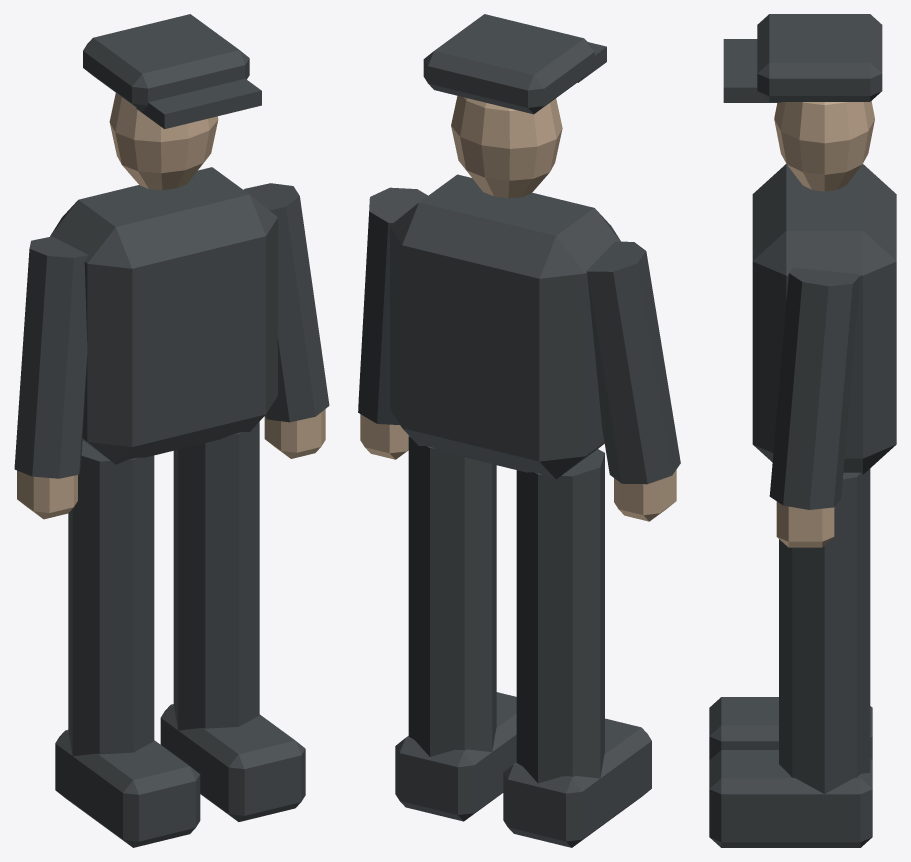
File: security_guard.glb
3 renders of one model, left to right at view 1: azimuth 30°, elevation 25°; view 2: azimuth 150°, elevation 25°; view 3: azimuth 270°, elevation 25°, orthographic. The views are drawn at different scales.
Parts seen in each view (by area): view 1: security_guard; view 2: security_guard; view 3: security_guard.
Part boxes in pixels (bbox=[...]): security_guard: bbox=[14, 14, 329, 847]; security_guard: bbox=[358, 14, 680, 847]; security_guard: bbox=[709, 14, 896, 847].
Size of the model in its own units: 0.7573 by 1.76 by 0.39.
